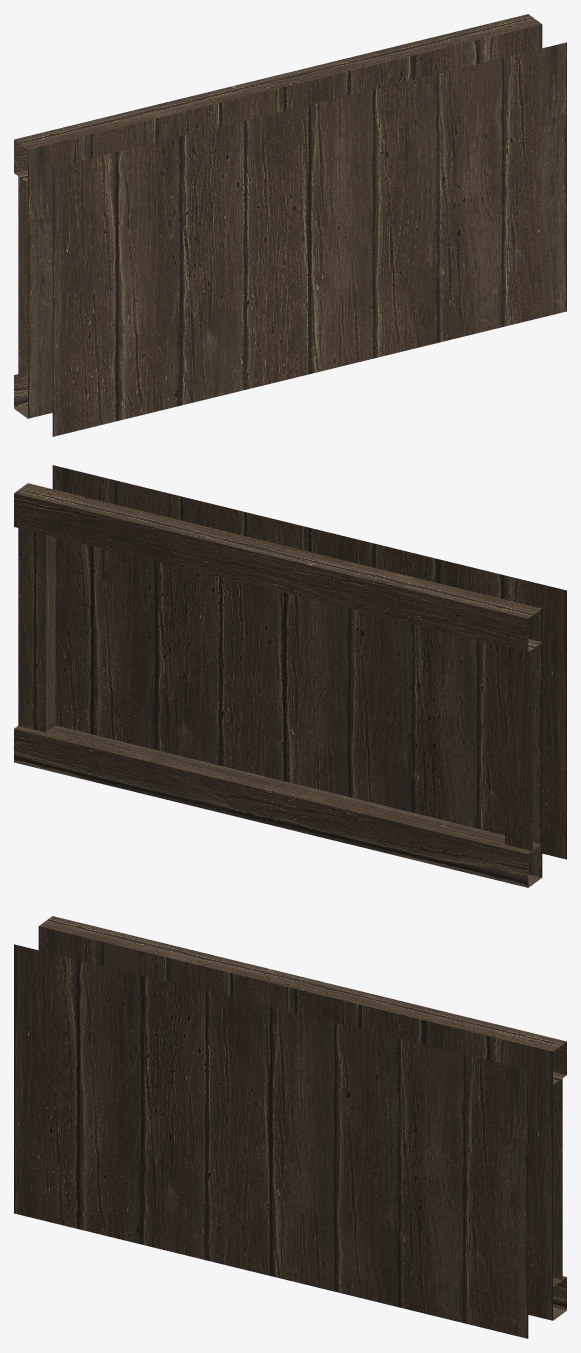
Rendered from ARC1010279.fbx.
The picture shows the model from 3 angles, top to bottom: view 1: azimuth 30°, elevation 25°; view 2: azimuth 150°, elevation 25°; view 3: azimuth 330°, elevation 25°; orthographic projection.
Parts seen in each view (by area): view 1: smARC1010279; view 2: smARC1010279; view 3: smARC1010279.
Part boxes in pixels (x1,y1,x2,y2): smARC1010279: (14,14,566,436); smARC1010279: (14,465,566,887); smARC1010279: (14,916,566,1338).
Bounding box in the file's own units: 268 × 134 × 34.9.
Materials: 1 (1 with a texture image).
